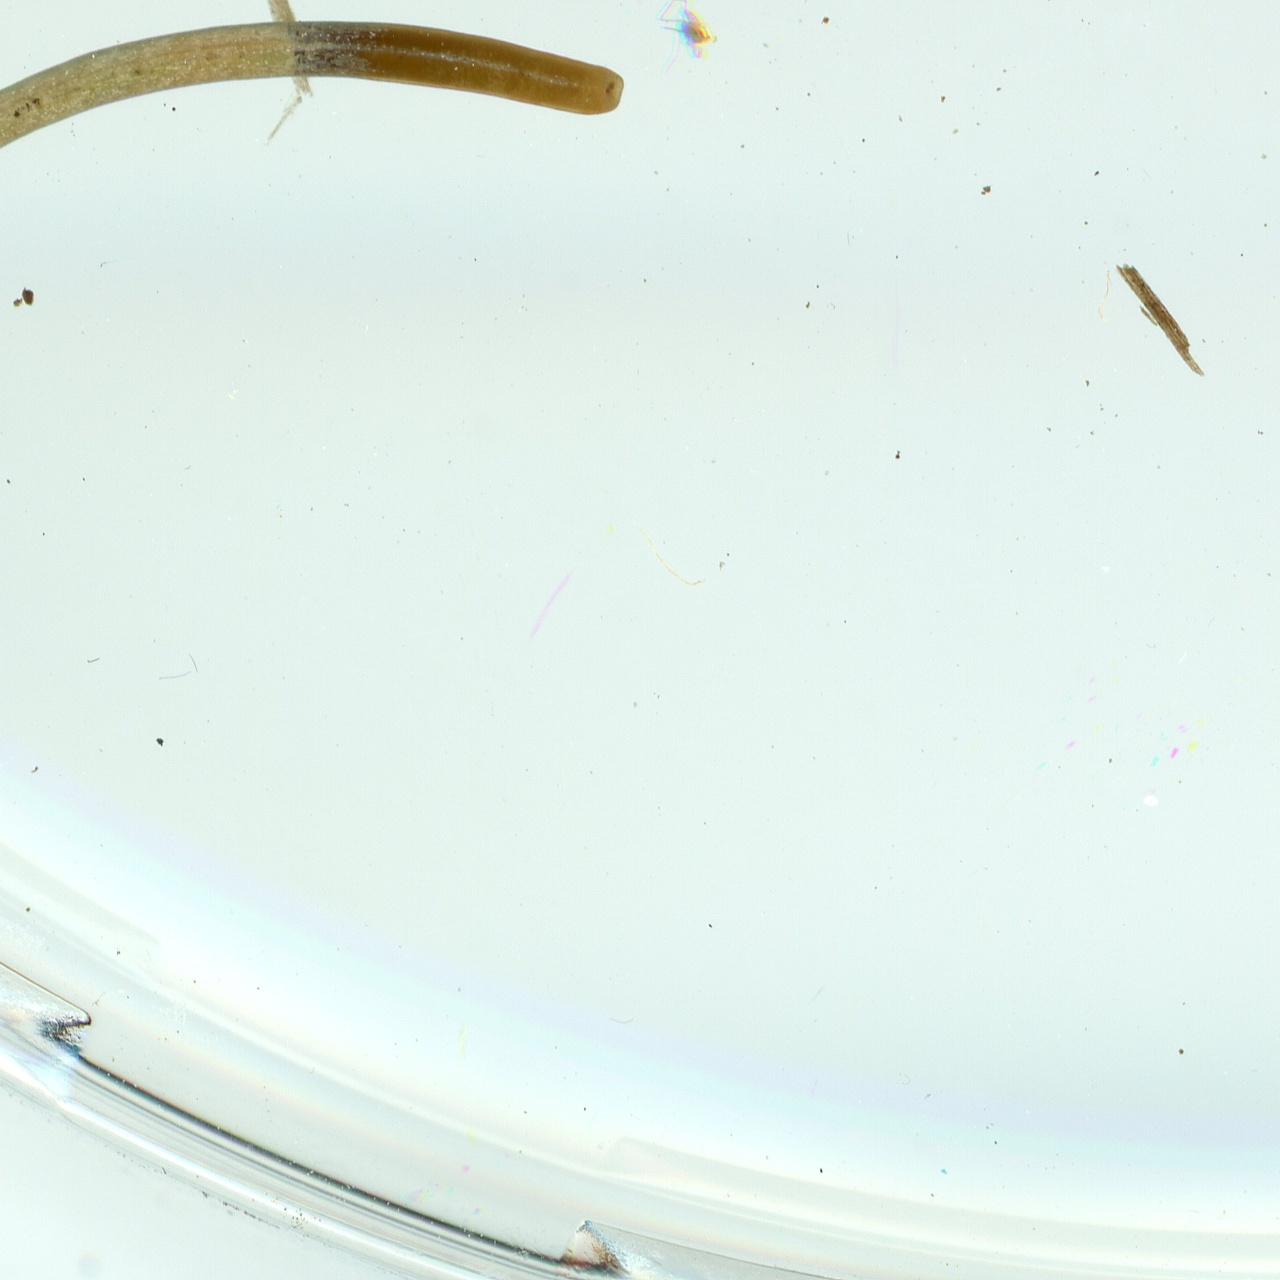arthropod: (632, 0, 730, 81)
